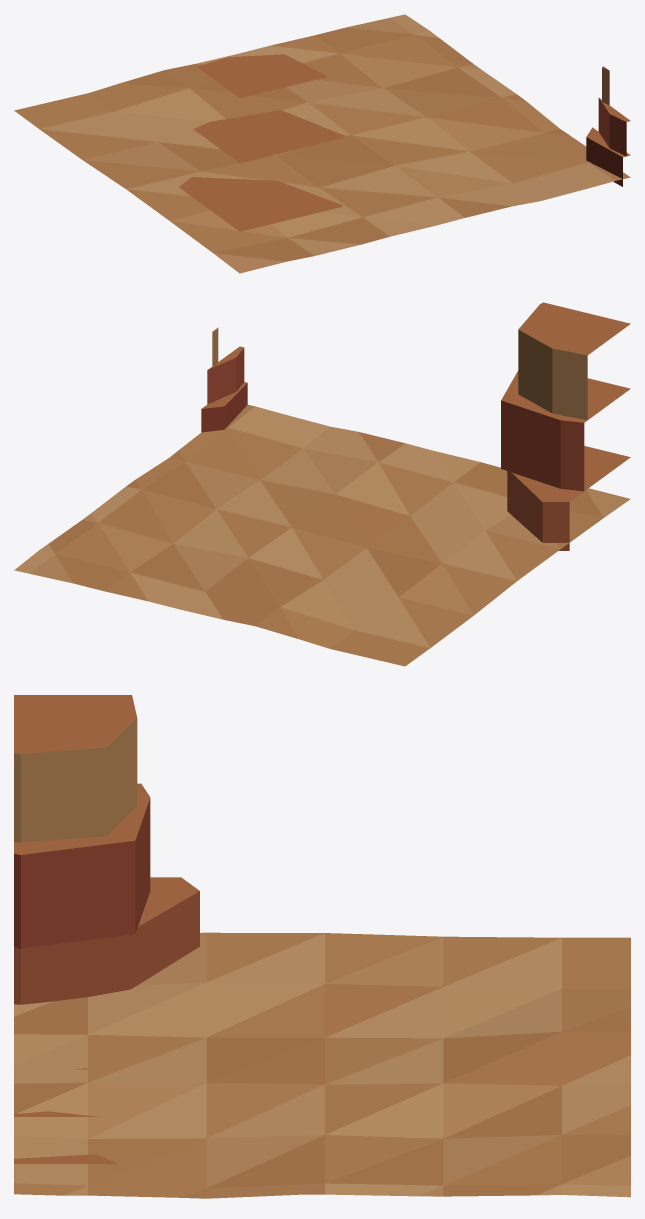
3 views of the same model, one above another, from view 1: azimuth 30°, elevation 25°; view 2: azimuth 150°, elevation 25°; view 3: azimuth 270°, elevation 25° (orthographic). The views are drawn at different scales.
Visible parts, largest first — view 1: baked; view 2: baked; view 3: baked.
Boxes of the visible parts, box(x1,y1,x2,y2) form: baked: box(14, 14, 630, 273); baked: box(14, 302, 630, 666); baked: box(14, 695, 630, 1198).
Bounding box in the file's own units: 62.5 × 27.84 × 62.5.
